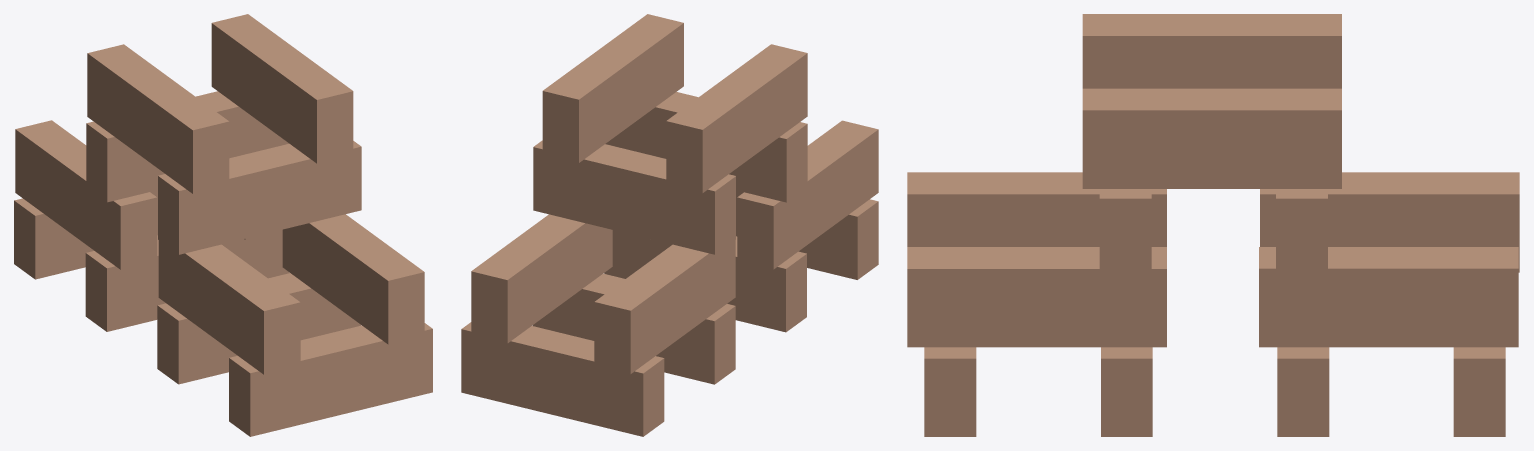
Rendered from three_tower_12.dae.
3 renders of one model, left to right at view 1: azimuth 30°, elevation 25°; view 2: azimuth 150°, elevation 25°; view 3: azimuth 270°, elevation 25°, orthographic. The views are drawn at different scales.
Parts seen in each view (by area): view 1: base (×11); view 2: base (×11); view 3: base (×12).
Boxes of the visible parts, x1=… form: base (×11): x1=14, y1=14, x2=432, y2=436; base (×11): x1=461, y1=14, x2=878, y2=436; base (×12): x1=907, y1=14, x2=1519, y2=436.
Bounding box in the file's own units: 0.1524 × 0.3596 × 0.2057.
